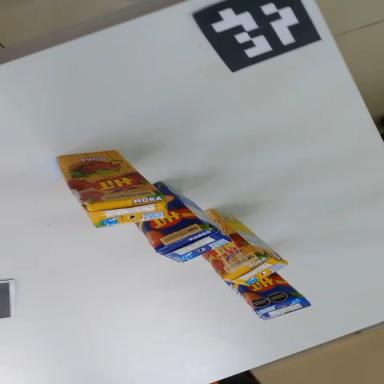HIT-MANGO: (121, 174, 230, 283), (226, 251, 312, 336)
HIT-MORA: (179, 200, 288, 305), (56, 143, 167, 232)
cara_F: (122, 180, 209, 267), (57, 143, 162, 209), (180, 209, 261, 288), (231, 263, 302, 315)
